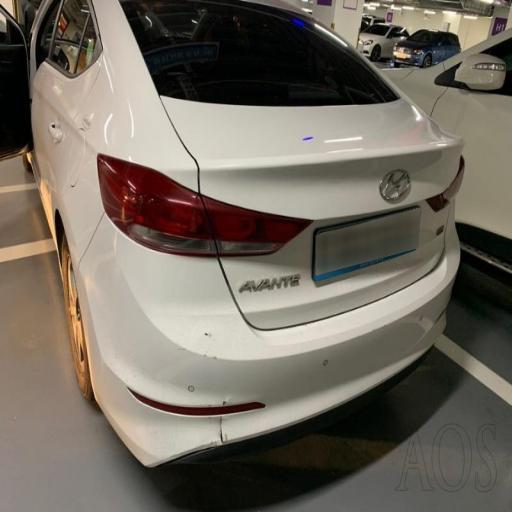dent: (115, 349, 286, 474)
